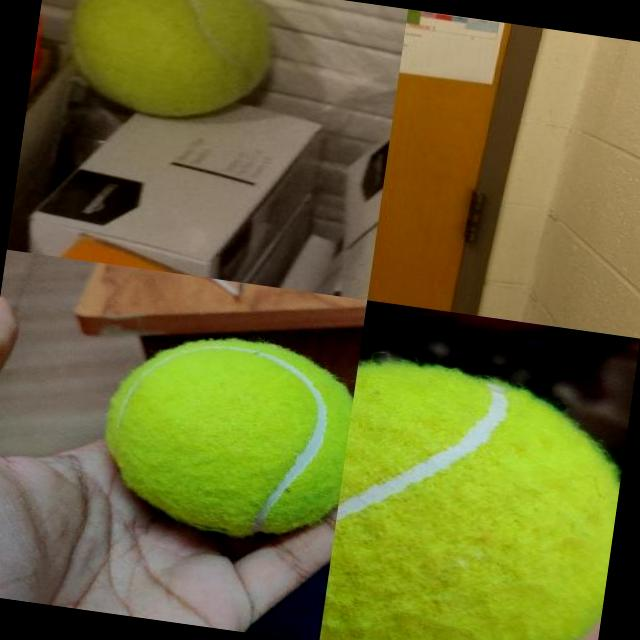Tennis Ball: (319, 358, 631, 640), (94, 322, 358, 548), (57, 0, 284, 131)
